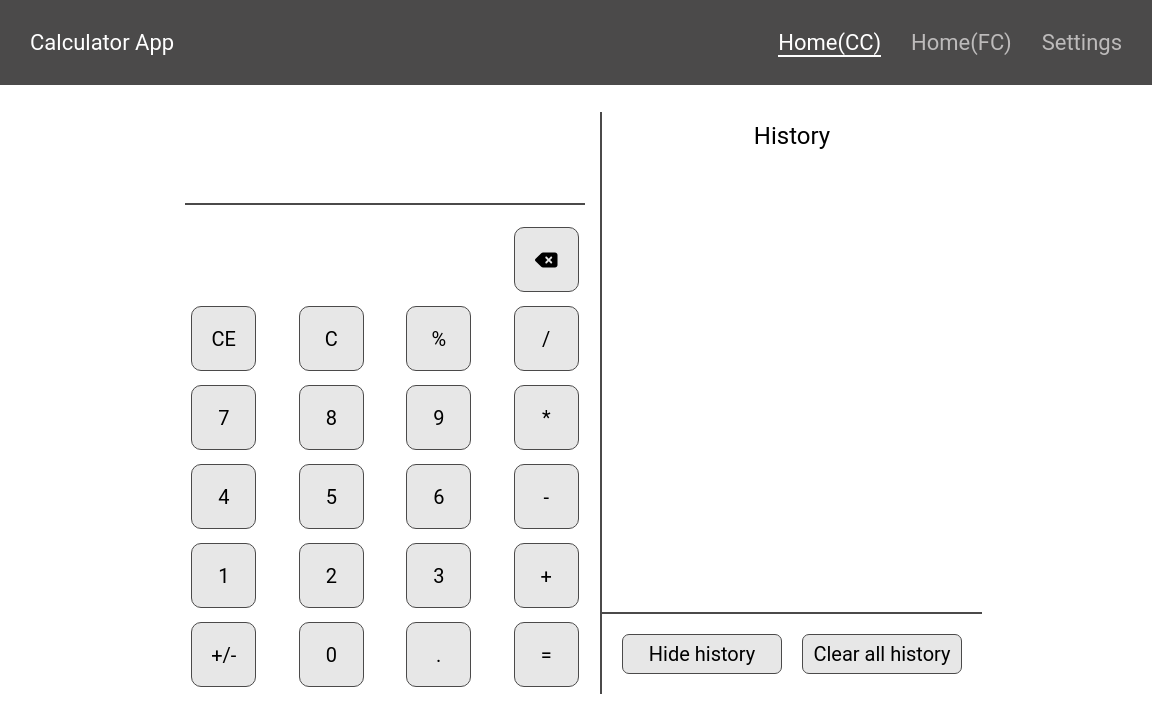
Test: Home CC E2E › should display entered value
Click the text with test id "btn5".
click(332, 497)  # box [299,464,364,529]
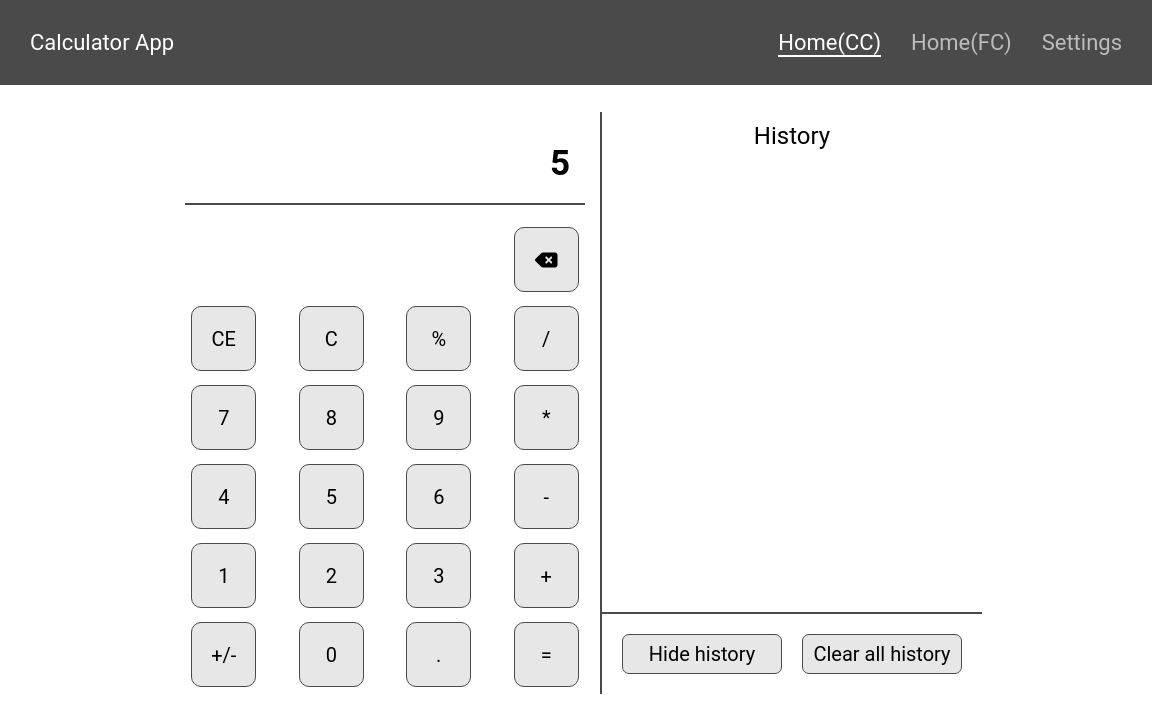
Expected: the text with test id "displayInput" reads "5", [550,143,570,184]
